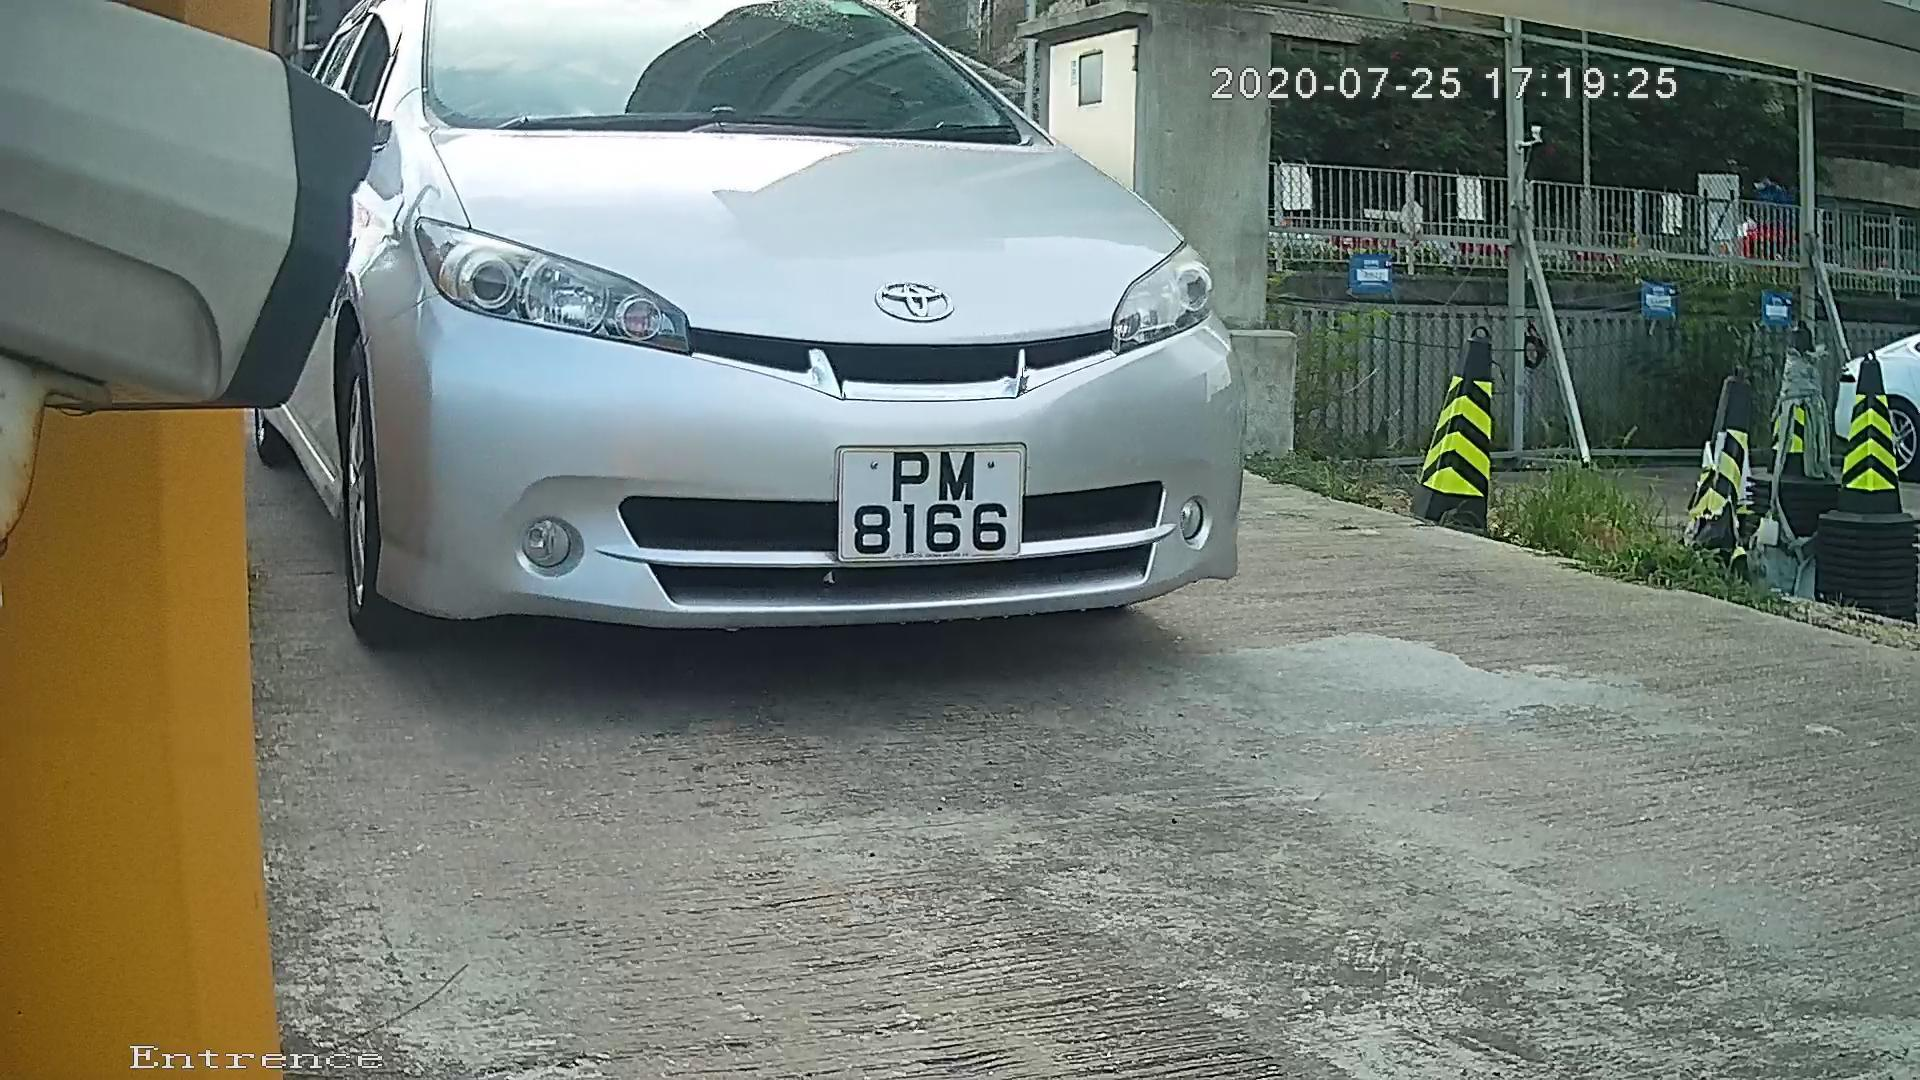privatecar: (249, 1, 1441, 695)
